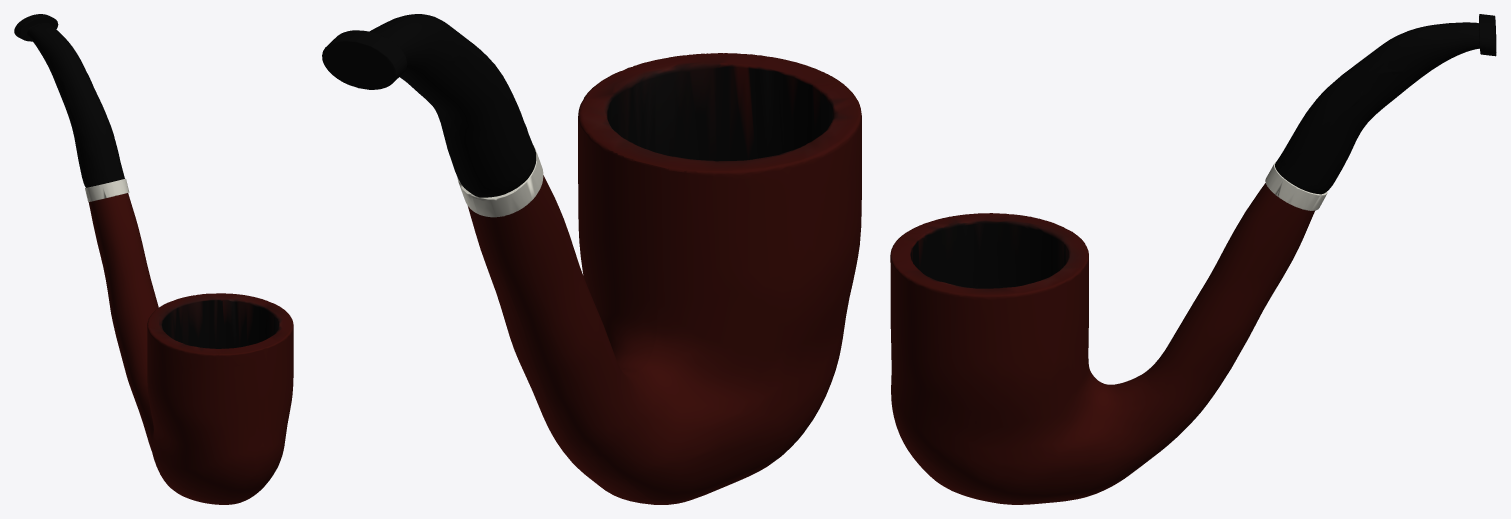
File: SherlockPipe.fbx
3 renders of one model, left to right at view 1: azimuth 30°, elevation 25°; view 2: azimuth 150°, elevation 25°; view 3: azimuth 270°, elevation 25°, orthographic. The views are drawn at different scales.
Parts seen in each view (by area): view 1: SherlockPipe 1; view 2: SherlockPipe 1; view 3: SherlockPipe 1.
Boxes of the visible parts, bbox=[...] form: SherlockPipe 1: bbox=[14, 14, 293, 504]; SherlockPipe 1: bbox=[322, 14, 861, 504]; SherlockPipe 1: bbox=[890, 14, 1496, 504].
Bounding box in the file's own units: 5.82 × 15.44 × 17.77.
